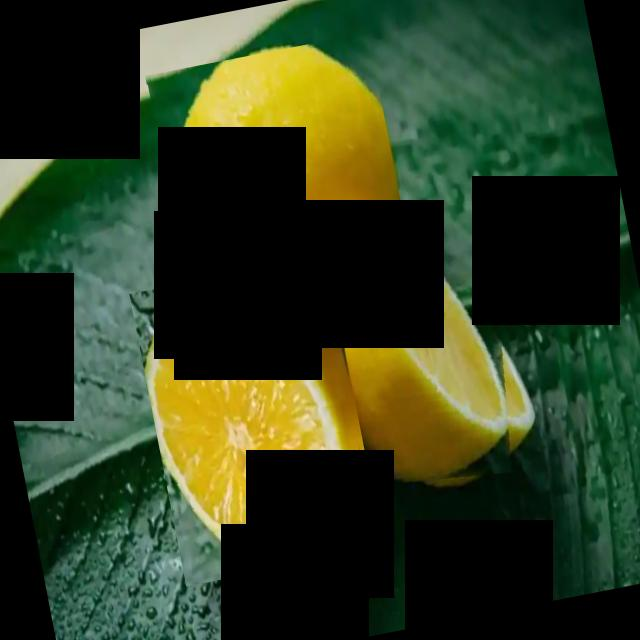lemon: (129, 255, 386, 587), (143, 32, 414, 318), (322, 197, 542, 498)
